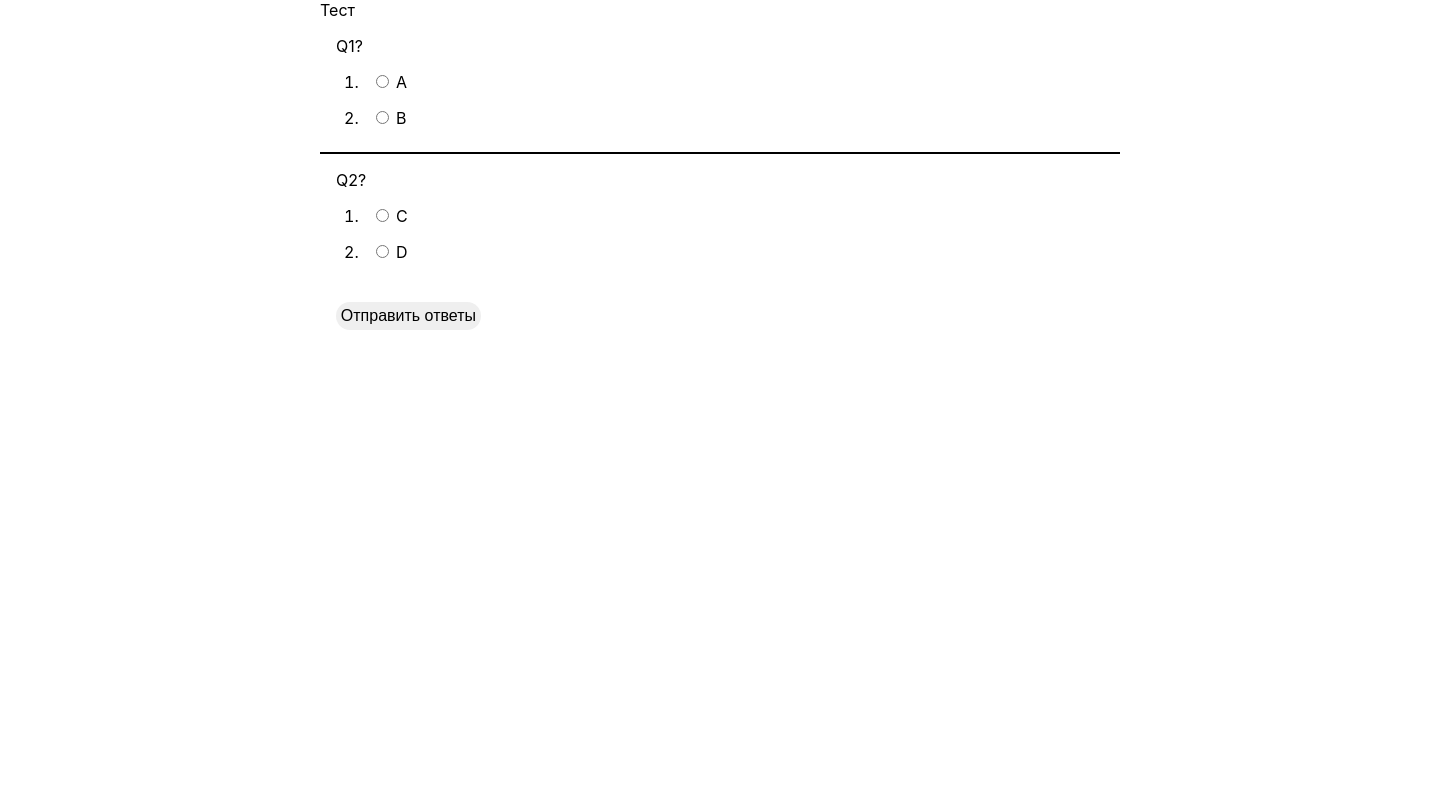
Test case: Test test › should show popup with failure message on incorrect answers
Click the 1st radio button at (382,82), box [376,75,389,88]
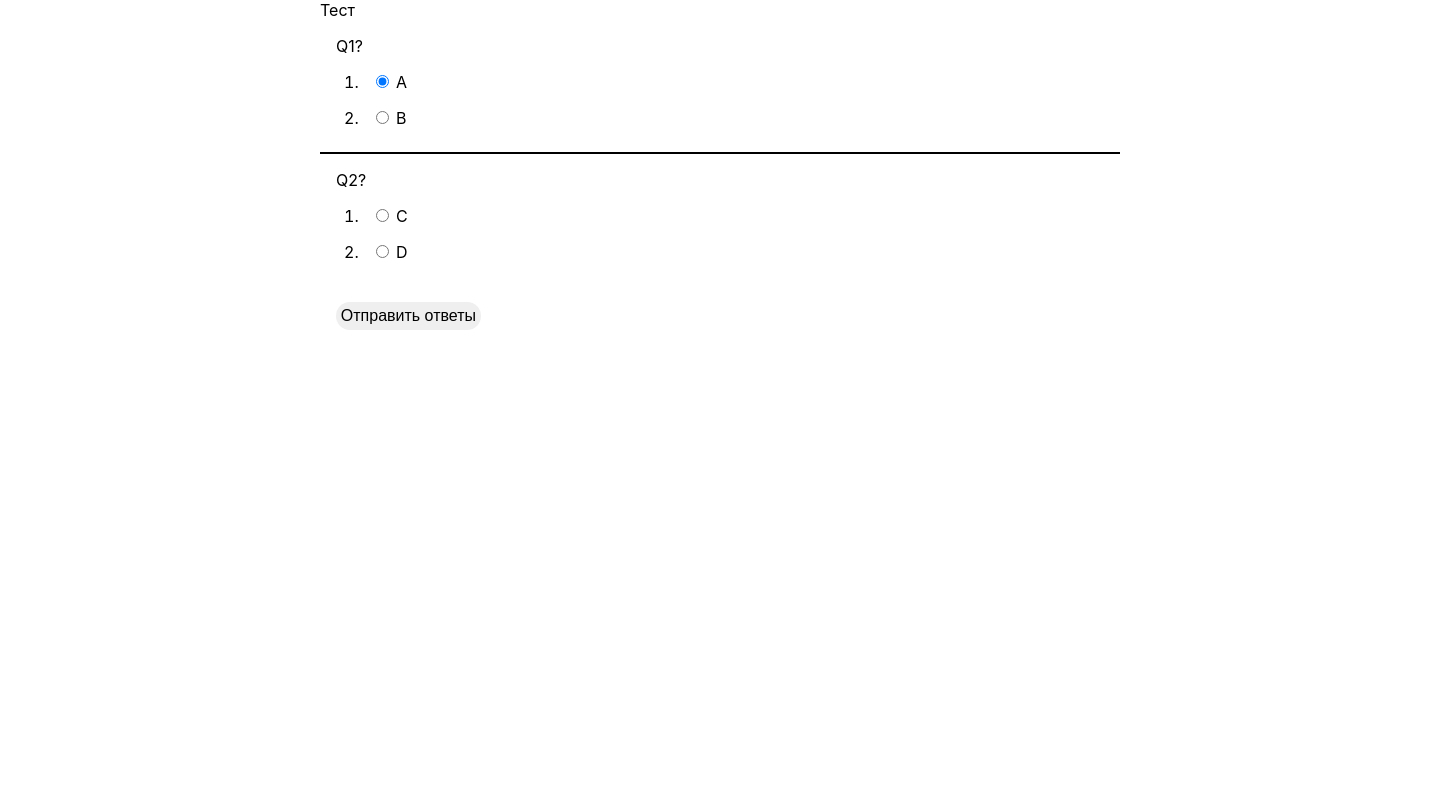
Click the 2nd radio button at (382,118), box [376,111,389,124]
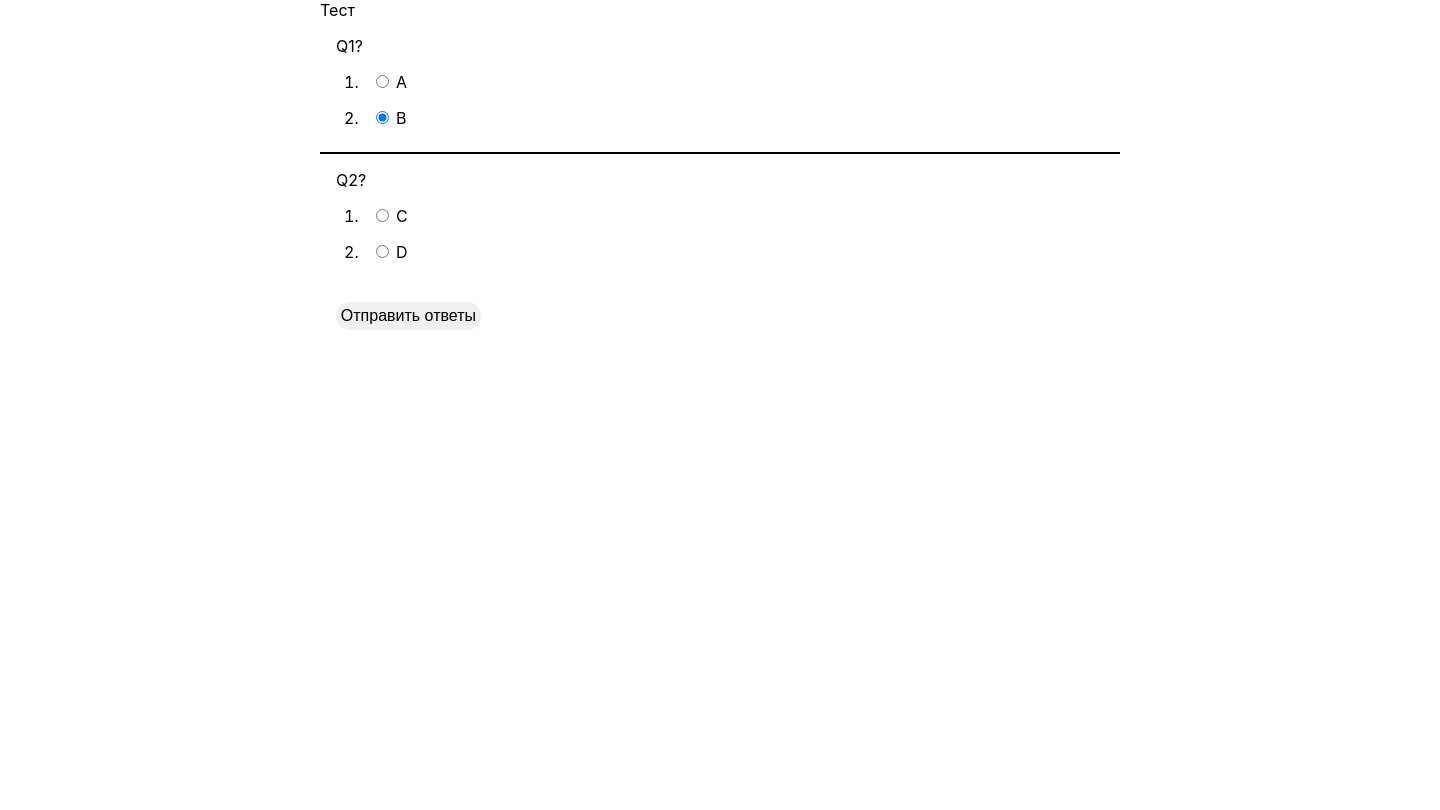
Click the 3rd radio button at (382,216), box [376,209,389,222]
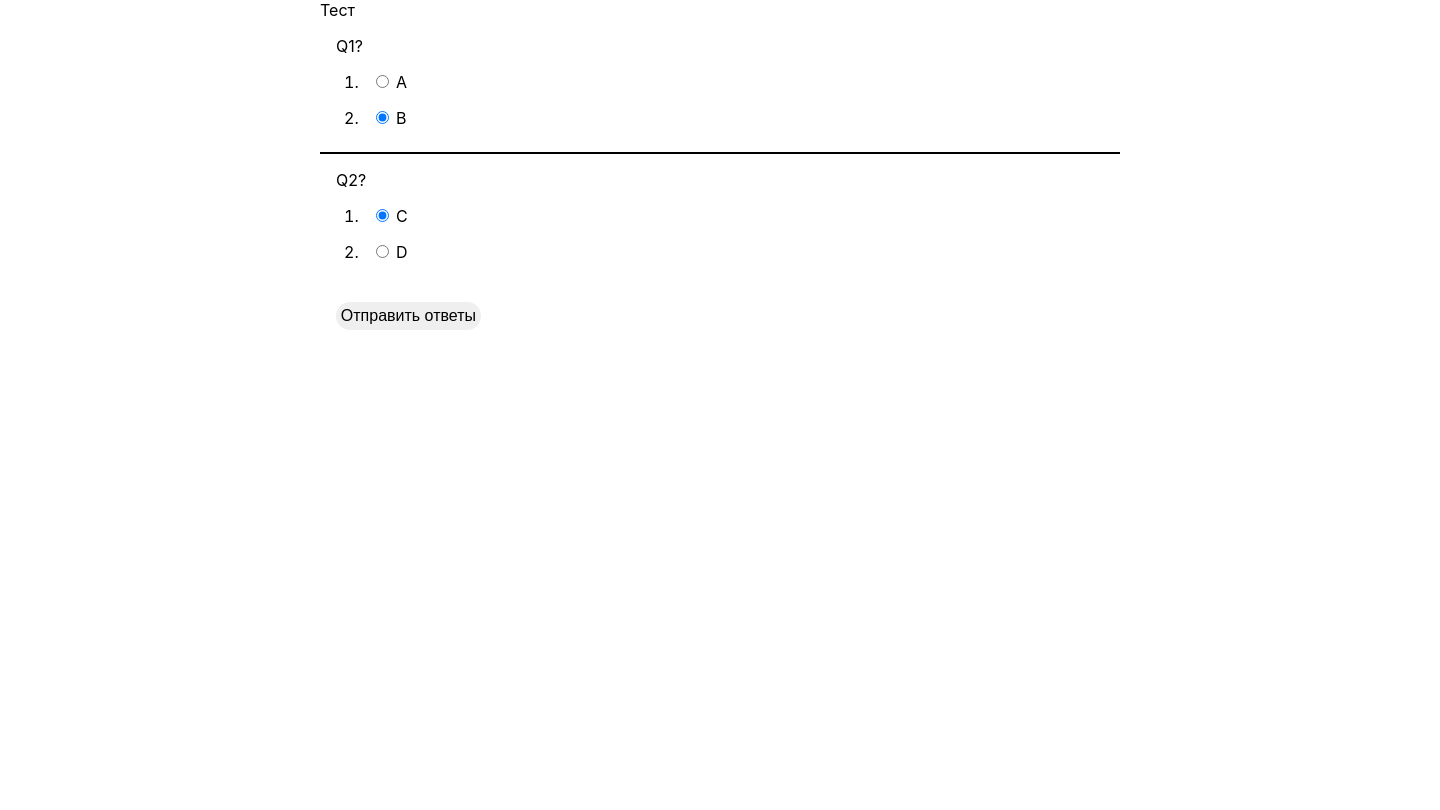
Click the 4th radio button at (382,252), box [376,245,389,258]
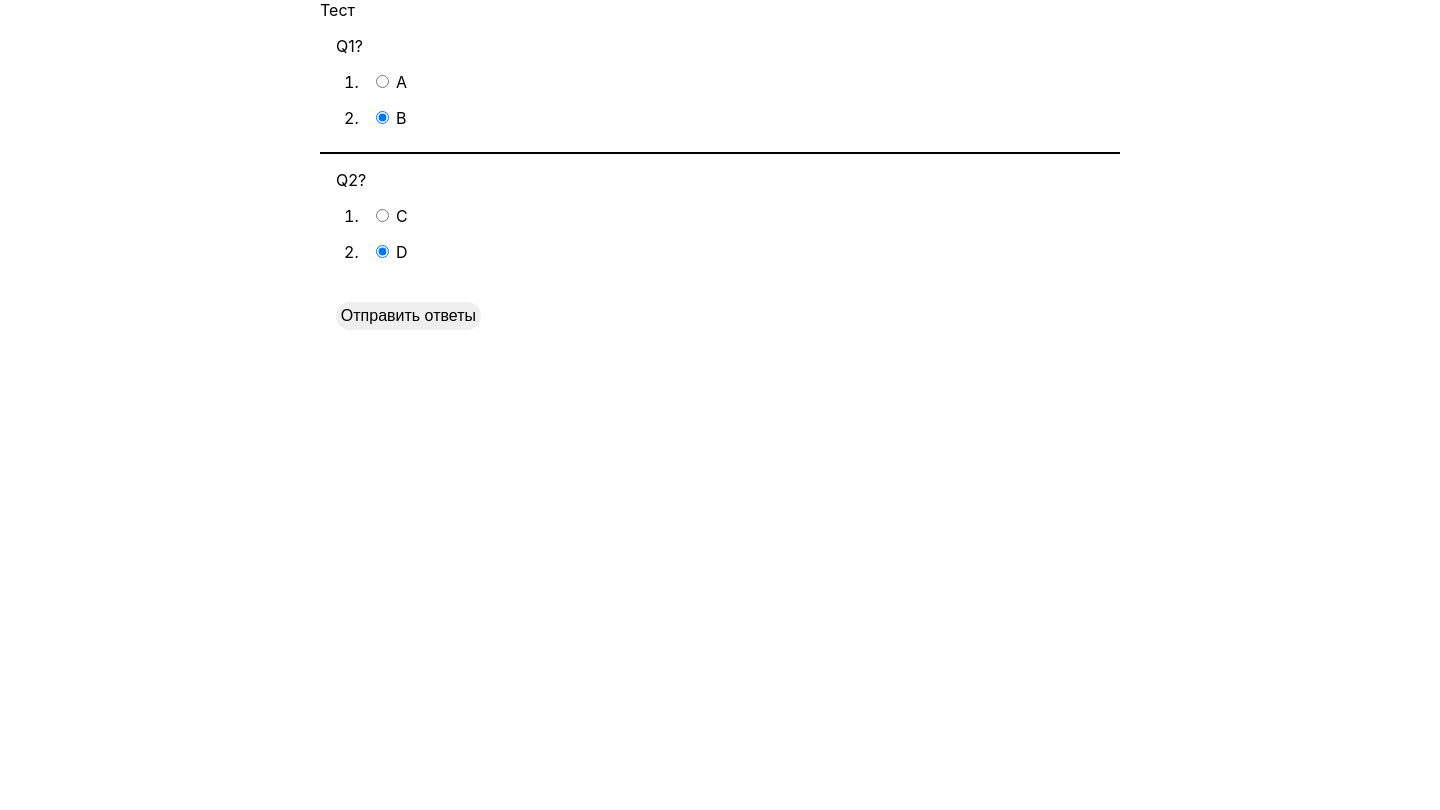
Submit the form from the button "Отправить ответы", box [336,302,481,330]
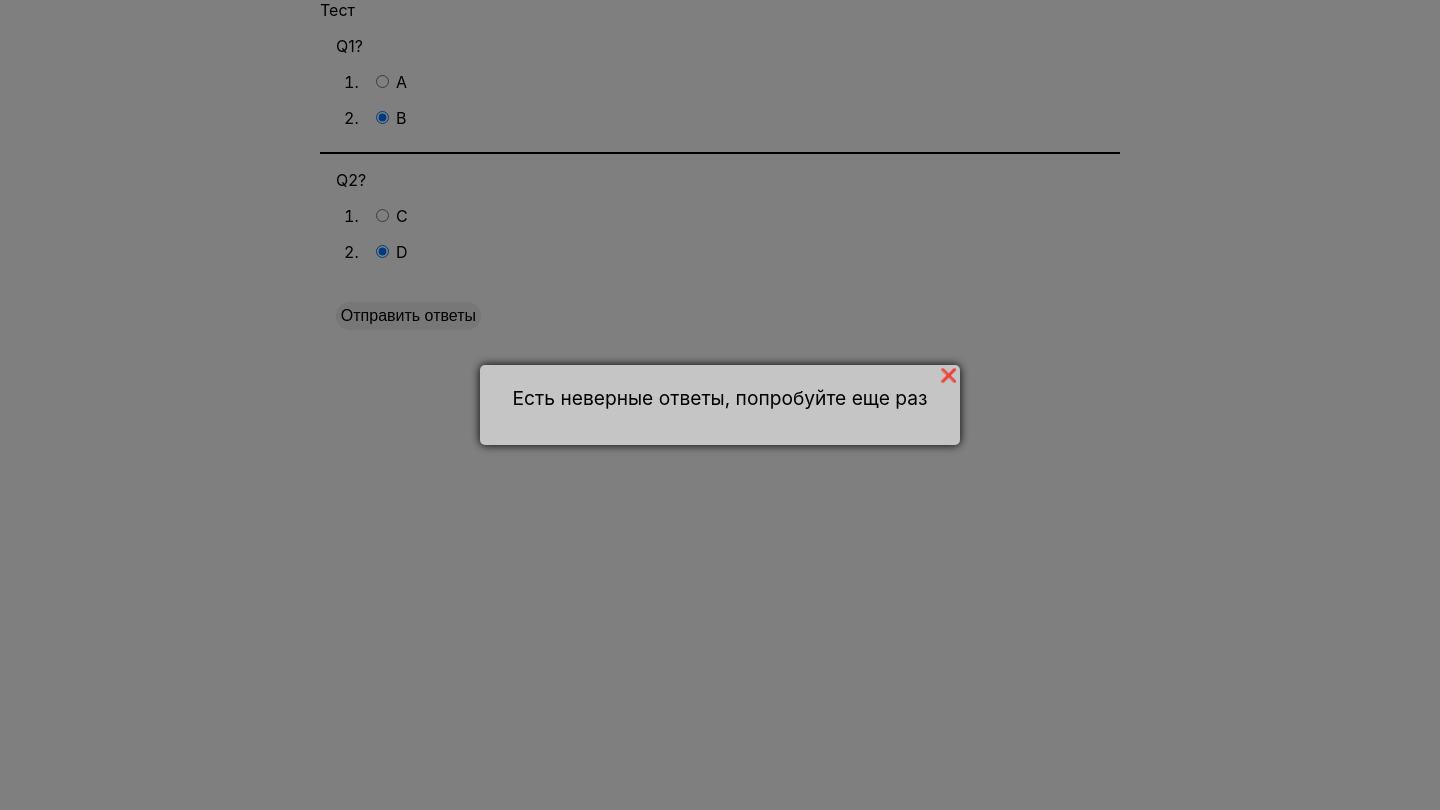
Now the text "Есть неверные ответы, попробуйте еще раз" is shown, box [498,386,942,410]
